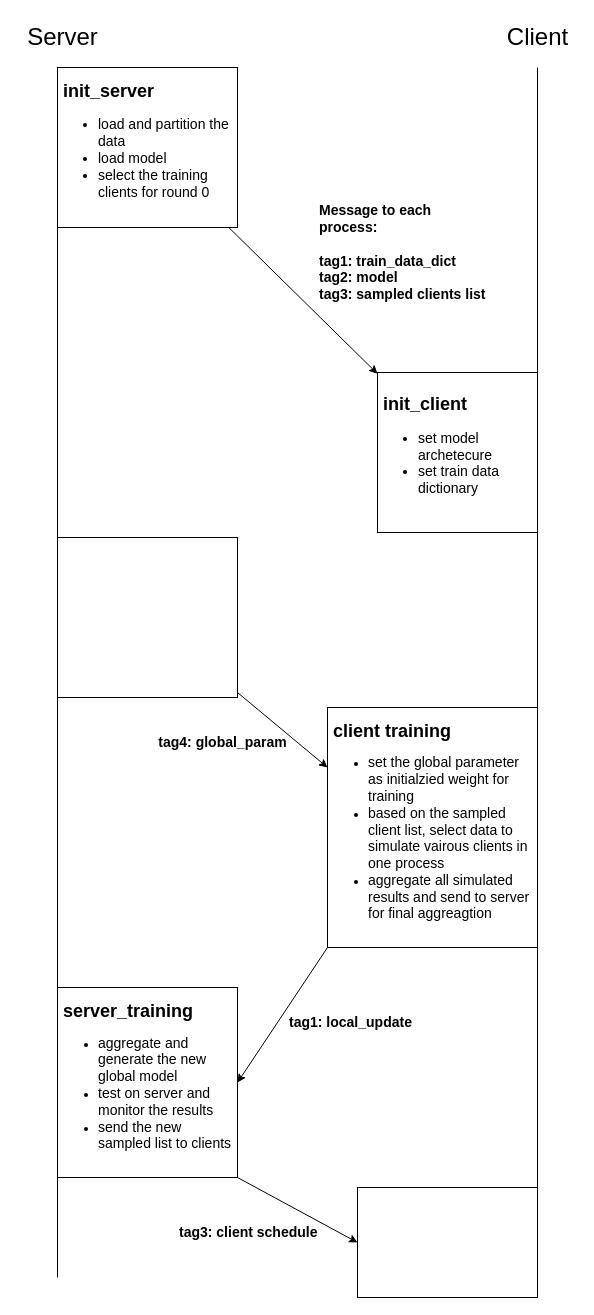
The diagram is 594 pixels wide and 1315 high, and some of its shapes have lost their labels. The box of each missing label's shape, as (x1, y1, x2, y2) in pixels:
client_training receive the client sampling list for next round: (356, 1186, 538, 1298)
server_training send global parameter to each process ask for local updates: (56, 536, 238, 698)
